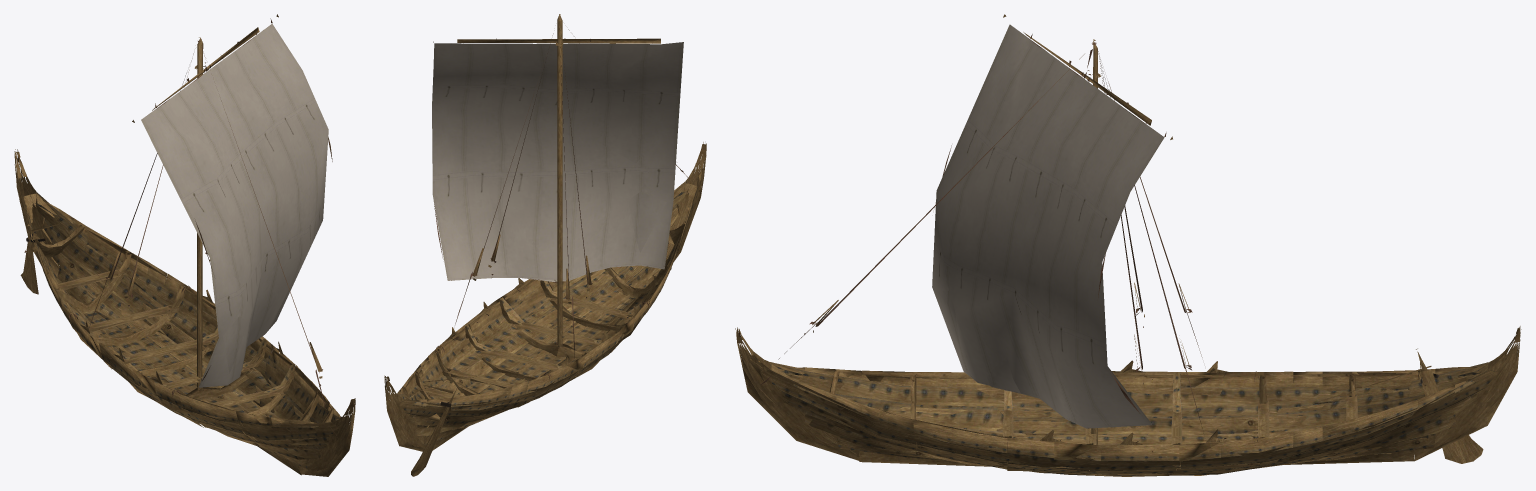
The model's file is Vikinger_Boot.glb.
3 renders of one model, left to right at view 1: azimuth 30°, elevation 25°; view 2: azimuth 150°, elevation 25°; view 3: azimuth 270°, elevation 25°, orthographic. The views are drawn at different scales.
Parts seen in each view (by area): view 1: gislinge_viking_boat; view 2: gislinge_viking_boat; view 3: gislinge_viking_boat.
Boxes of the visible parts, x1,y1,x2,y2 form: gislinge_viking_boat: (14, 14, 355, 476); gislinge_viking_boat: (384, 14, 706, 476); gislinge_viking_boat: (735, 14, 1521, 476).
Size of the model in its own units: 30.6 by 45.24 by 74.86.
Materials: 2 (2 with a texture image).
